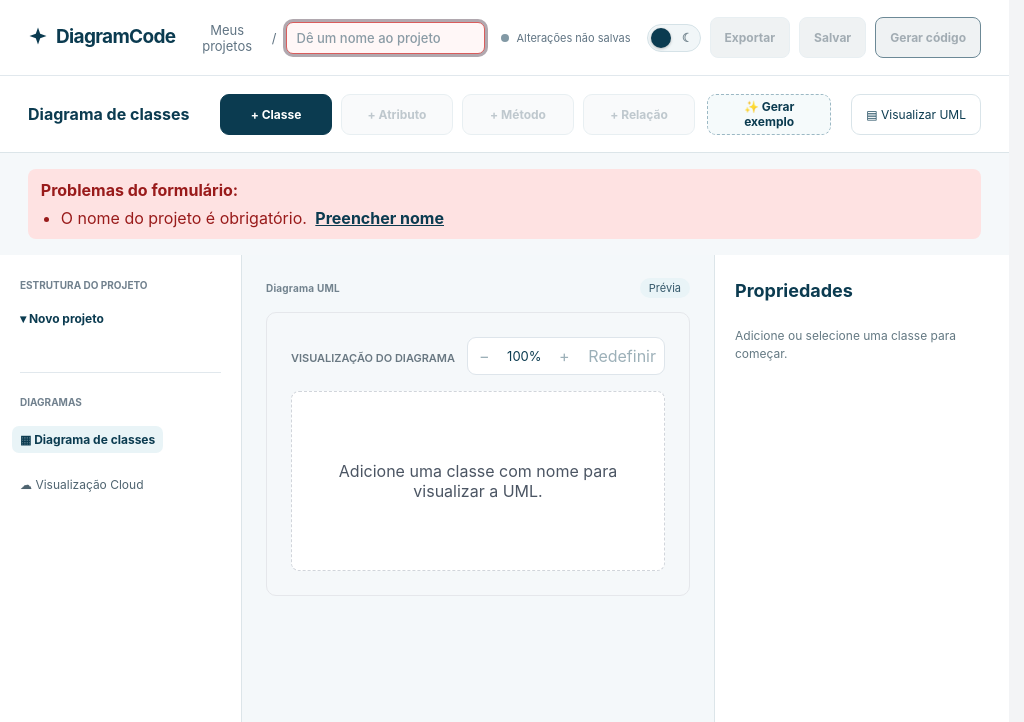
Test: Correções de UX do editor › abre a visualização Cloud e permite adicionar serviços e conexões
Step 1. Click the button "☁ Visualização Cloud" → click(82, 485), box [12,471,152,498]
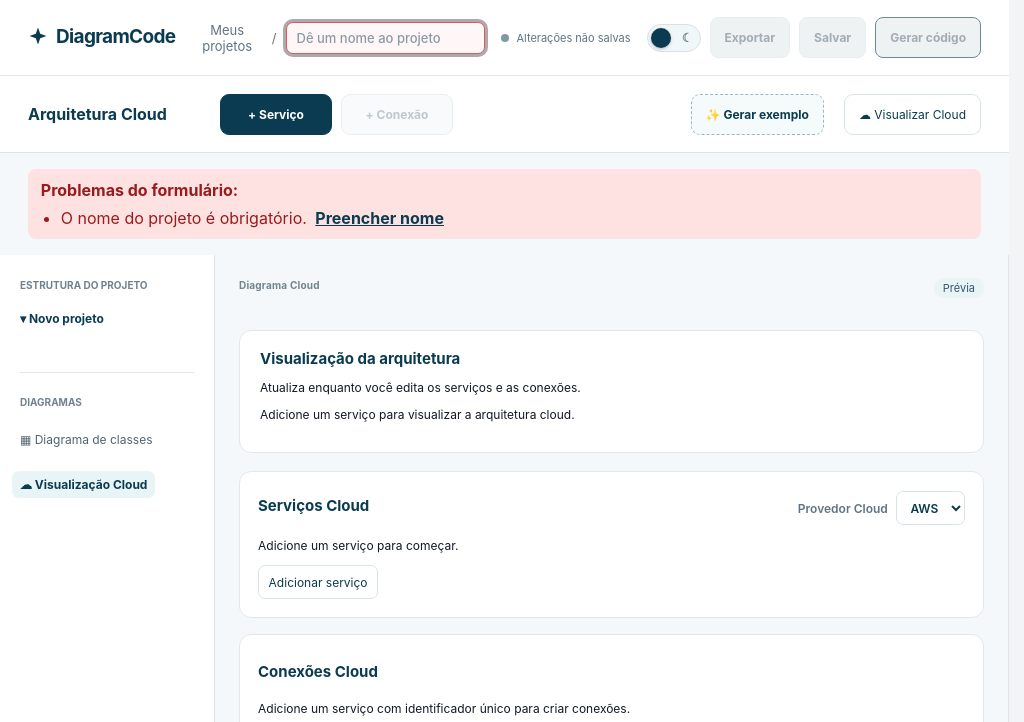
Expected: the heading "Arquitetura Cloud" is shown, [28,104,167,124]
Expected: the text "Conexões Cloud" is shown, [258,662,378,681]
Step 2. Click the button "+ Serviço" → click(276, 114), box [220,94,332,134]
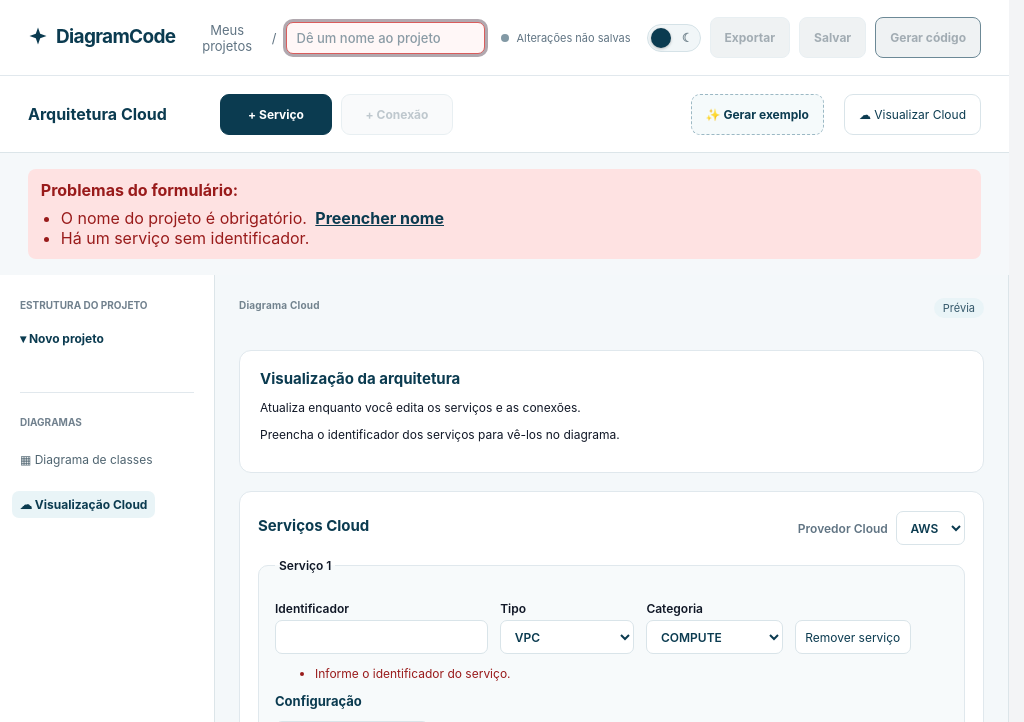
Step 3. Click the button "+ Serviço" → click(276, 114), box [220,94,332,134]
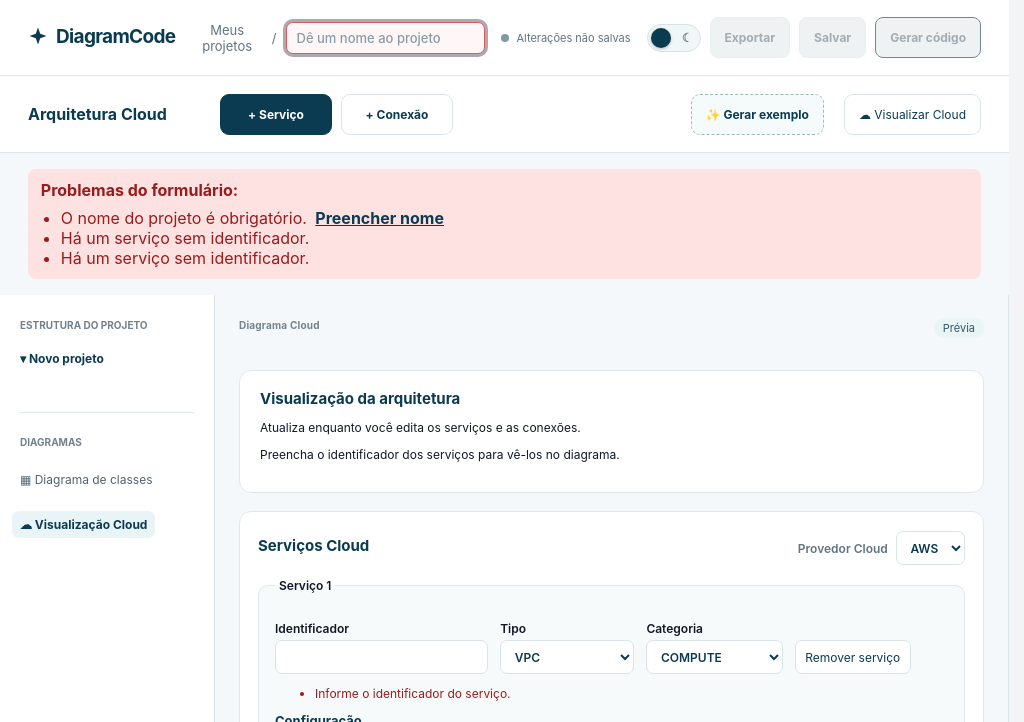
Expected: the button "+ Conexão" is enabled
Step 4. Click the button "+ Conexão" → click(397, 114), box [341,94,453,134]
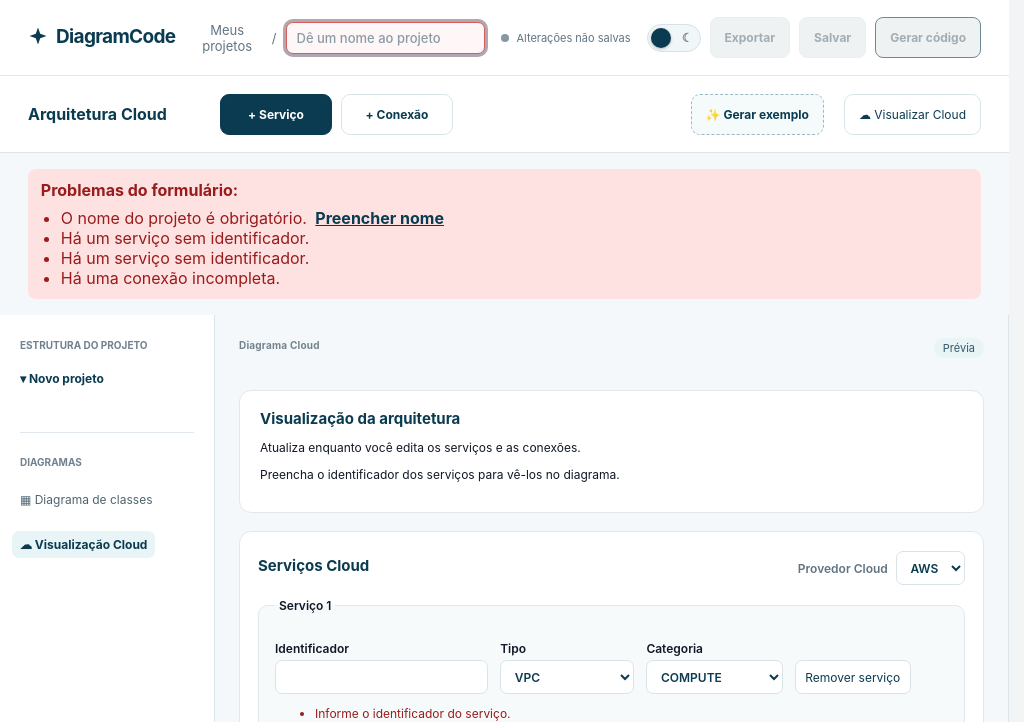
Step 5. Click the button "▦ Diagrama de classes" → click(86, 500), box [12,486,160,513]
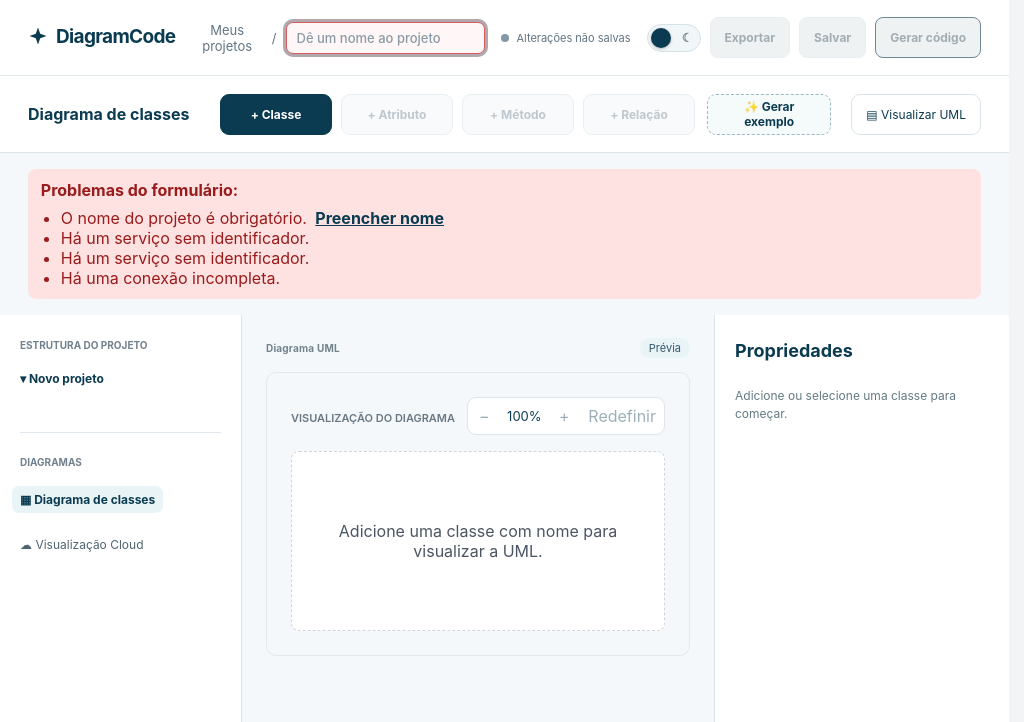
Expected: the heading "Diagrama de classes" is shown, [28,104,208,124]
